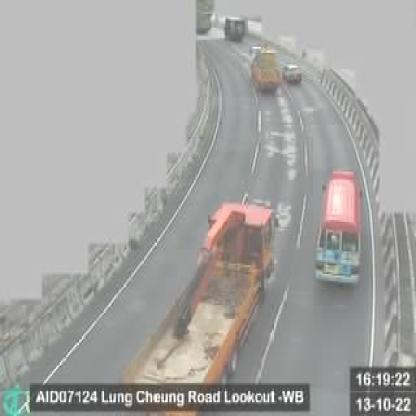Car: (282, 62, 301, 85)
Minibus: (313, 168, 363, 288)
Truck: (105, 204, 273, 411), (248, 45, 279, 96), (223, 16, 247, 41)
